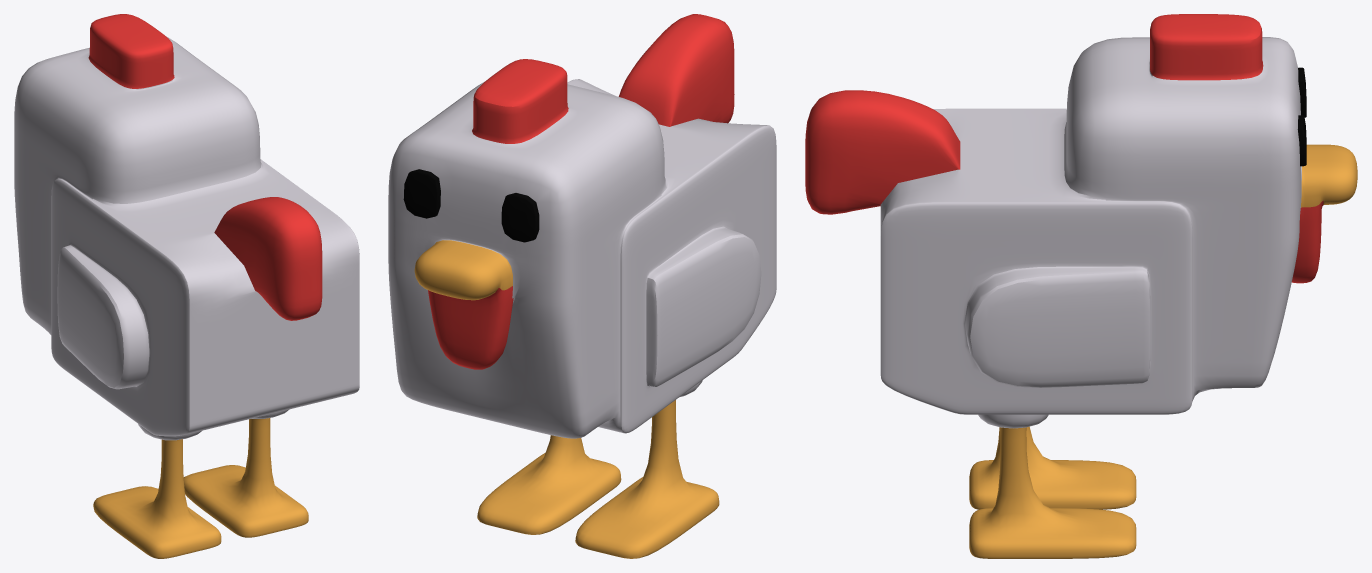
File: tabuk.fbx
3 views of the same model, side by side, from view 1: azimuth 30°, elevation 25°; view 2: azimuth 150°, elevation 25°; view 3: azimuth 270°, elevation 25° (orthographic). The views are drawn at different scales.
Visible parts, largest first — view 1: Cube.031; view 2: Cube.031; view 3: Cube.031.
Part boxes in pixels (x1=…): Cube.031: x1=14, y1=14, x2=359, y2=558; Cube.031: x1=388, y1=14, x2=776, y2=558; Cube.031: x1=805, y1=14, x2=1357, y2=558.
Bounding box in the file's own units: 51.99 × 96.28 × 97.86.
